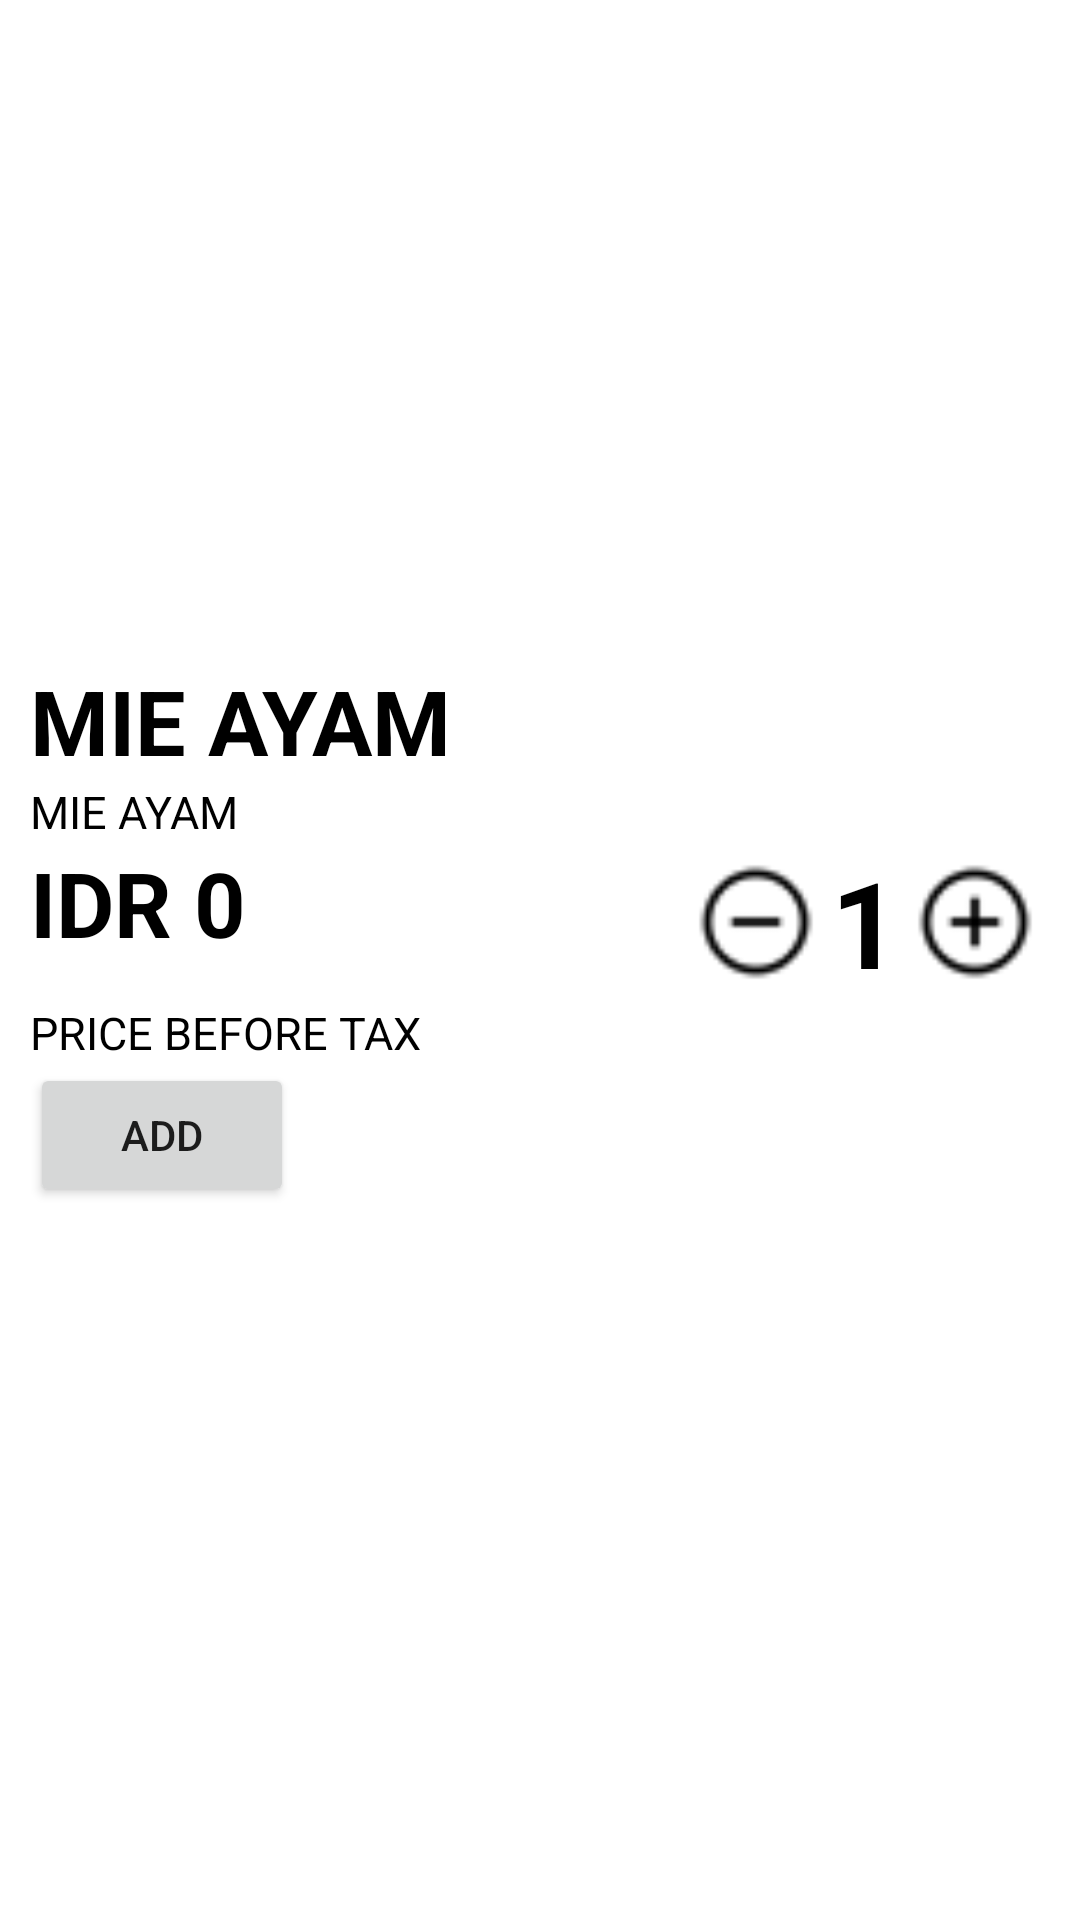

Where icons sit on this 1080 x 1920 app screen, as (x1, y1, x2, y2):
minus: (699, 865, 813, 979)
plus: (918, 865, 1032, 979)
